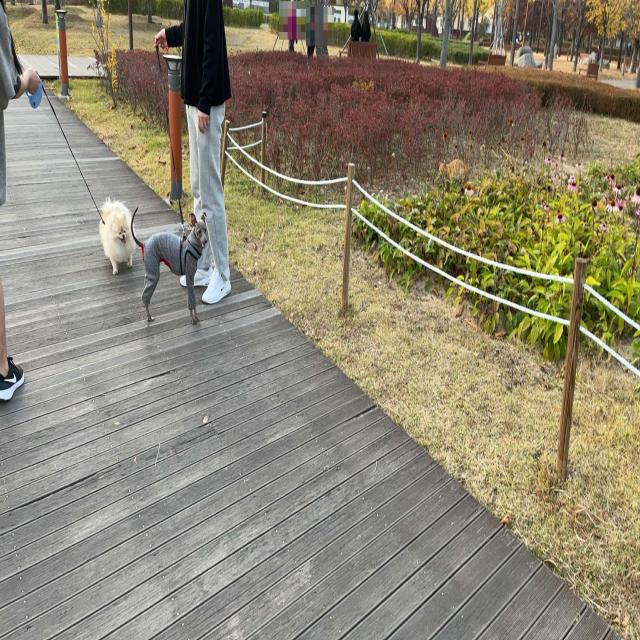Leashed_Dog: (0, 44, 136, 275), (131, 24, 208, 326)
